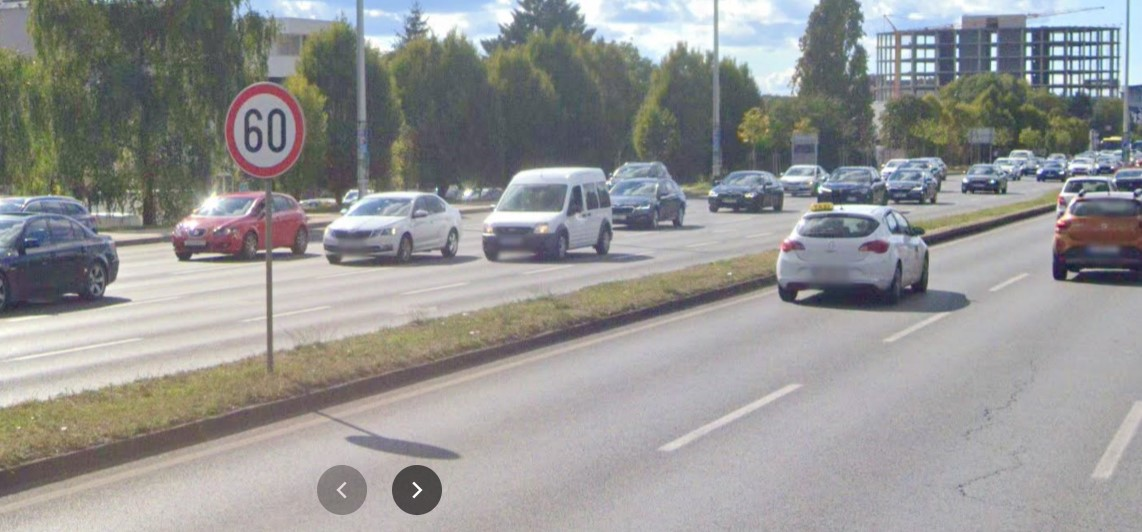Ograničenje brzine 60: (225, 81, 306, 178)
